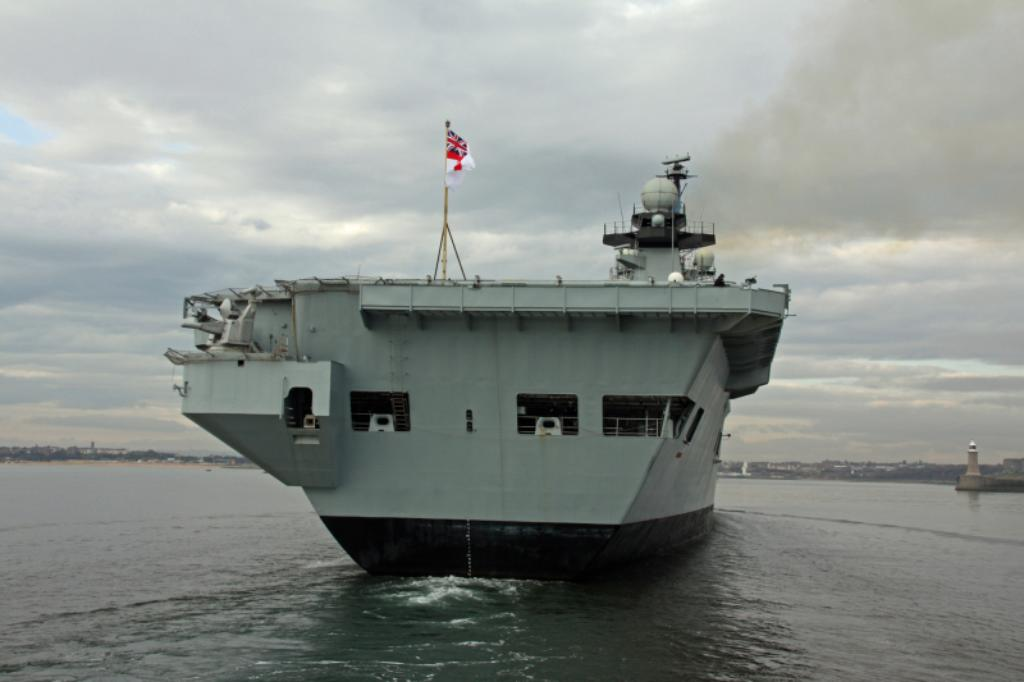Warship: (172, 84, 808, 598)
